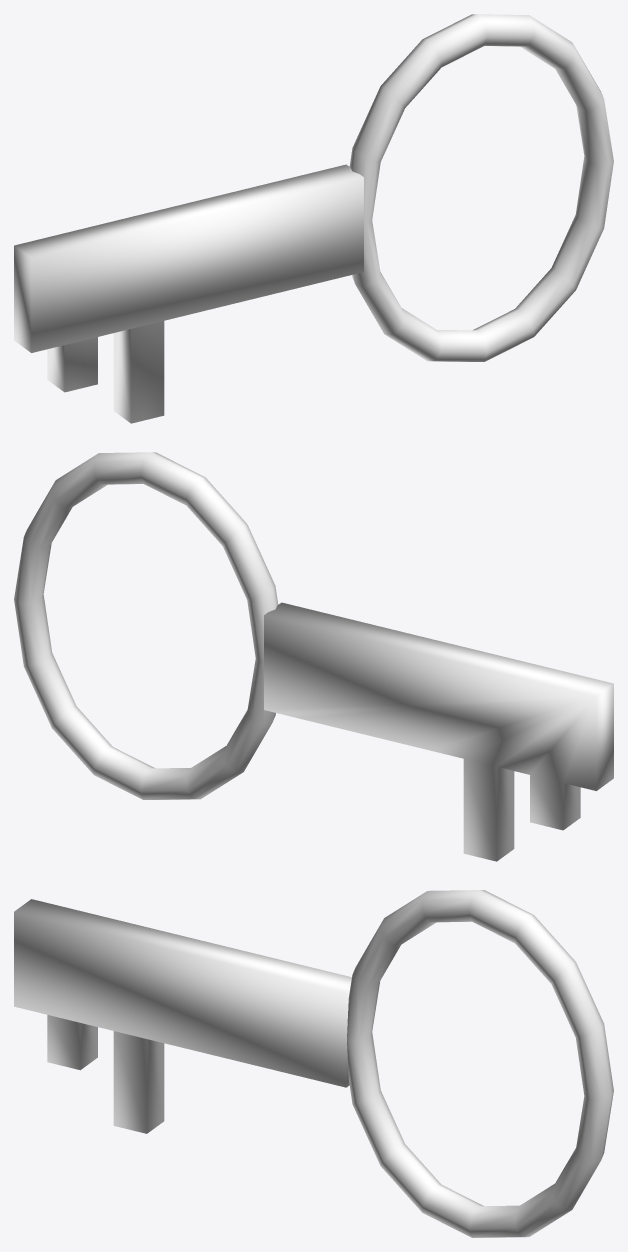
Rendered from Key.obj.
3 renders of one model, top to bottom at view 1: azimuth 30°, elevation 25°; view 2: azimuth 150°, elevation 25°; view 3: azimuth 330°, elevation 25°, orthographic.
Visible parts, largest first — view 1: Key; view 2: Key; view 3: Key.
Part boxes in pixels (x1=…): Key: x1=14, y1=14, x2=613, y2=423; Key: x1=14, y1=452, x2=613, y2=861; Key: x1=14, y1=890, x2=613, y2=1237.
Size of the model in its own units: 3.9 by 2.2 by 0.2044.
1 material, 1 textured.
